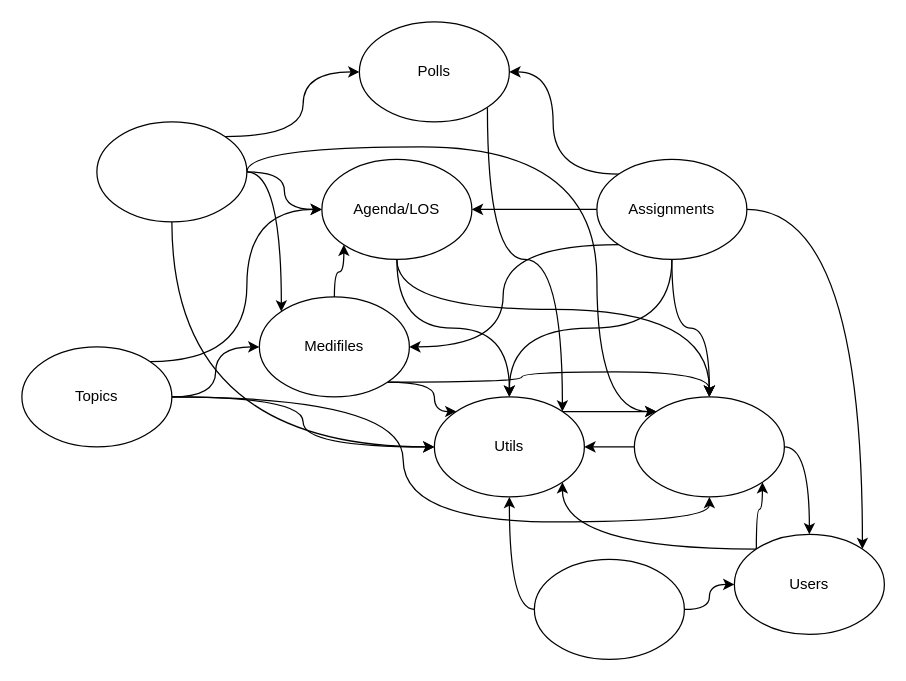
Image size: 906x681. Some labels were removed from this diagram. The shapes that lost their labels are listed below. From the top down, each one's box as (x1, y1, x2, y2) in pixels, then its label:
(96, 121, 247, 222): Motions
(633, 396, 784, 497): Core
(533, 558, 684, 659): SAML
